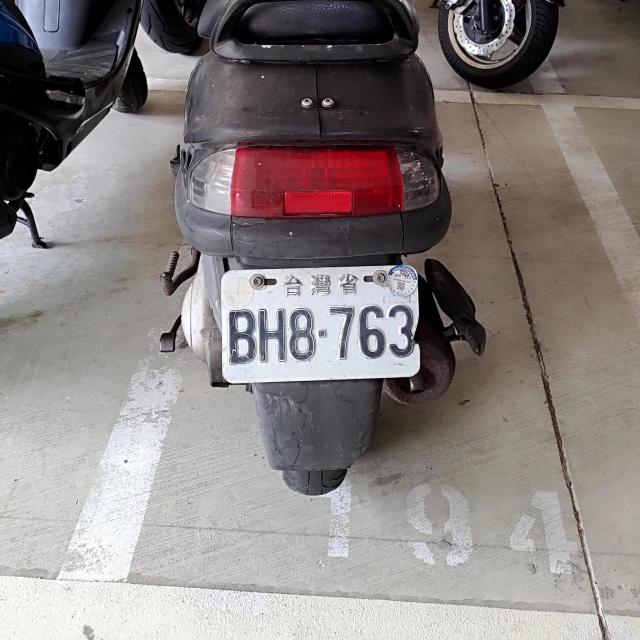W: (218, 264, 420, 379)
